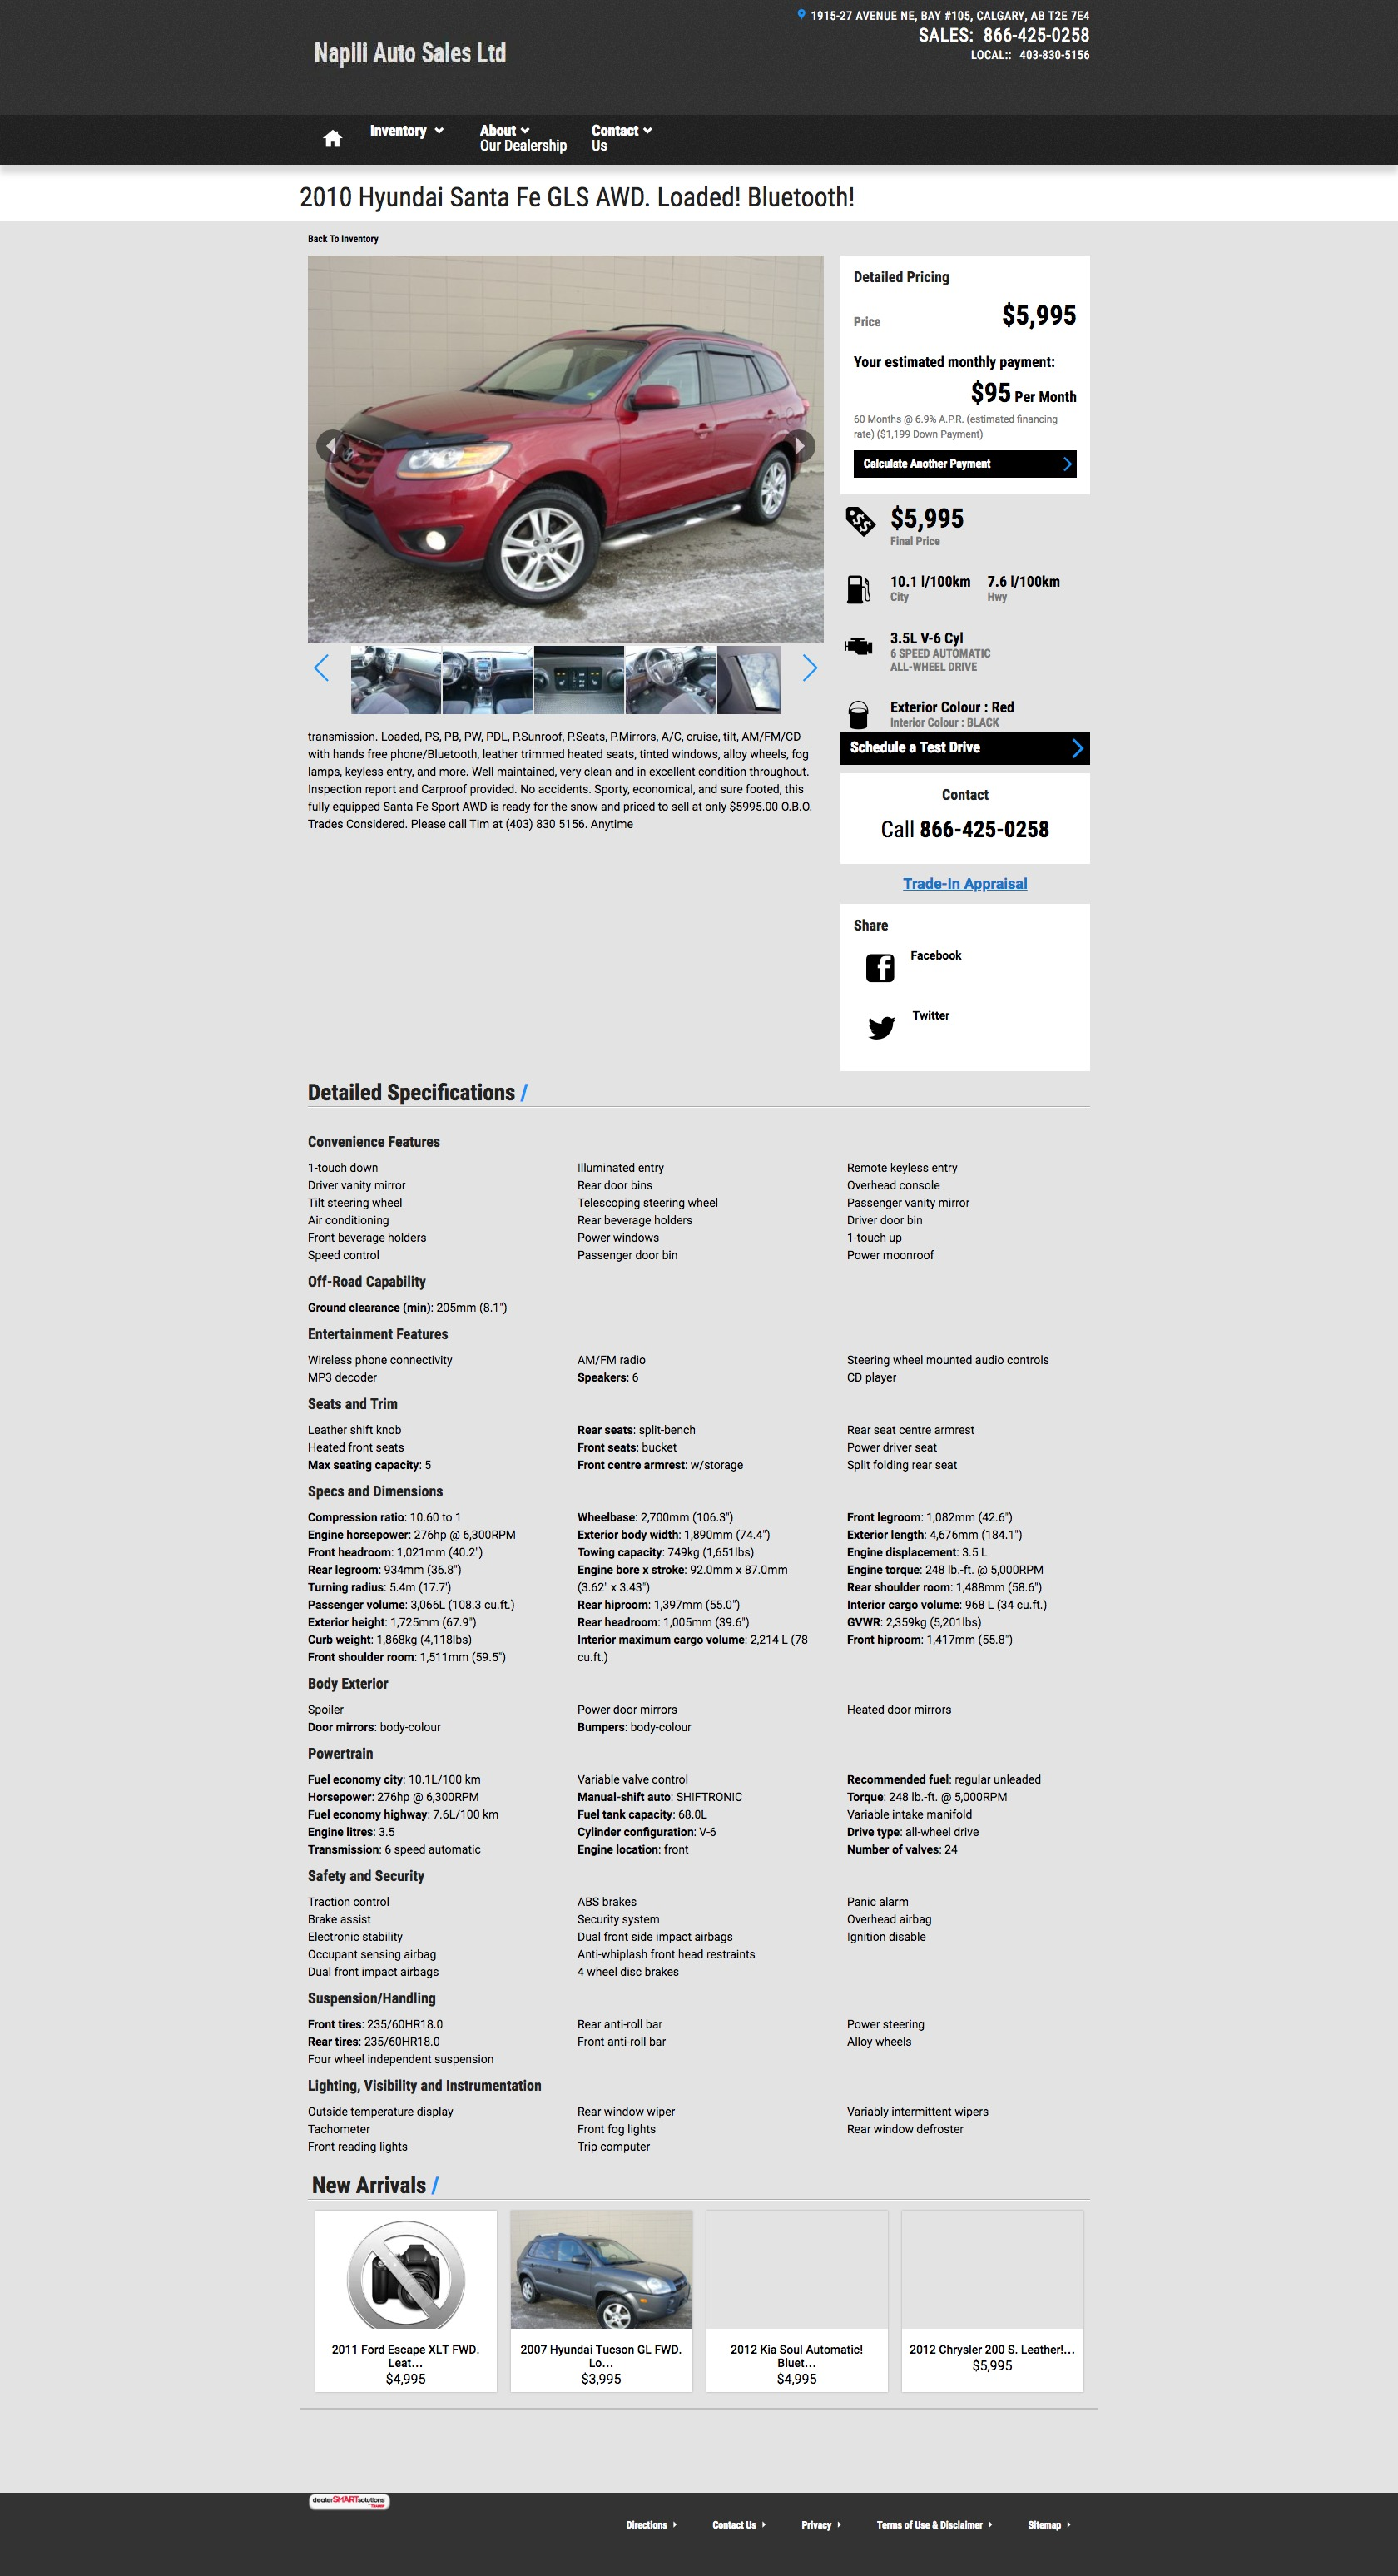car: (802, 654, 820, 684)
